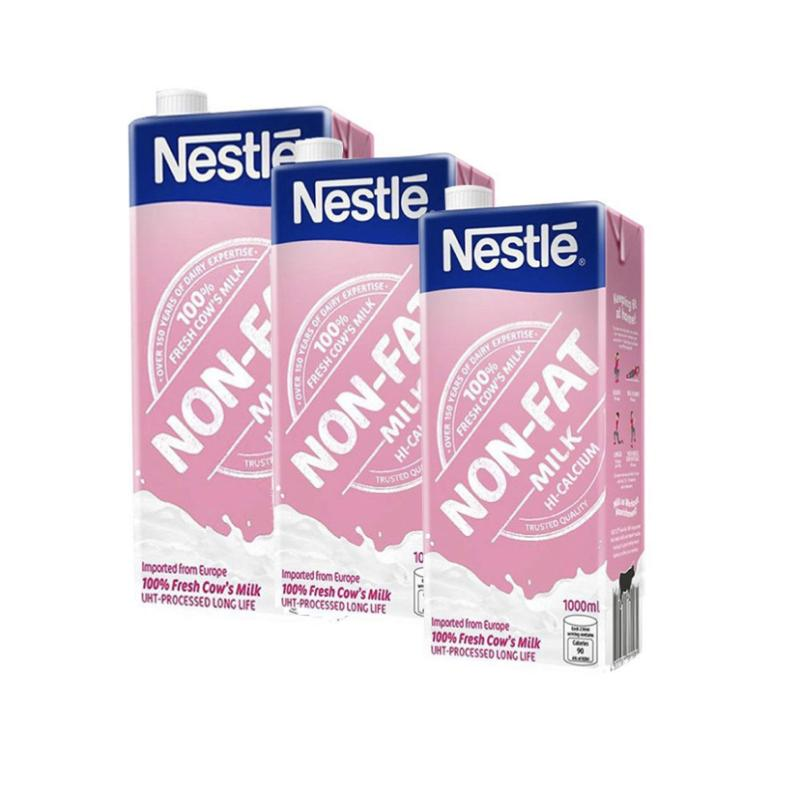uht carton: (128, 88, 375, 615), (419, 186, 645, 673), (272, 138, 496, 621)
